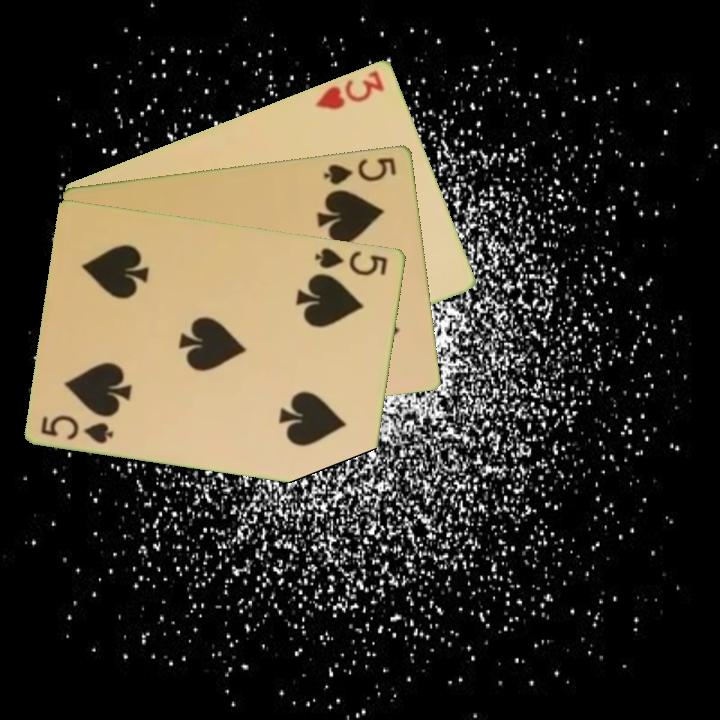3h: (312, 66, 388, 112)
5s: (311, 243, 391, 279), (38, 411, 117, 447), (320, 153, 400, 187)
